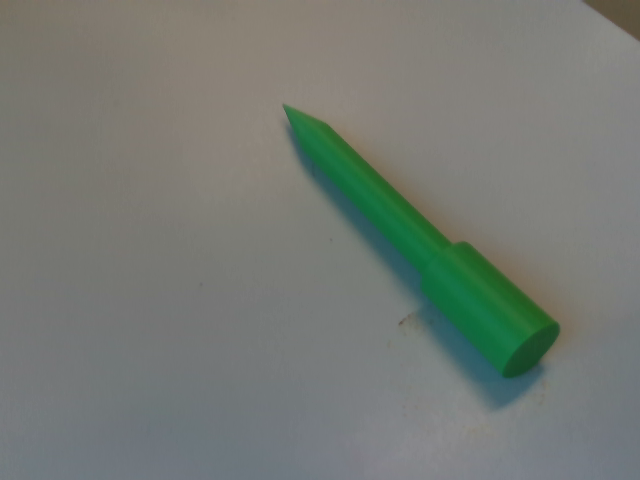Probe: (279, 96, 569, 399)
